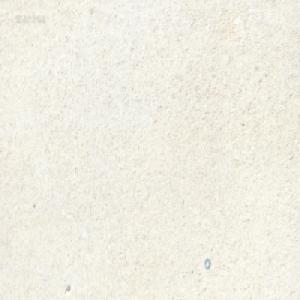Washer: (204, 257, 210, 269)
